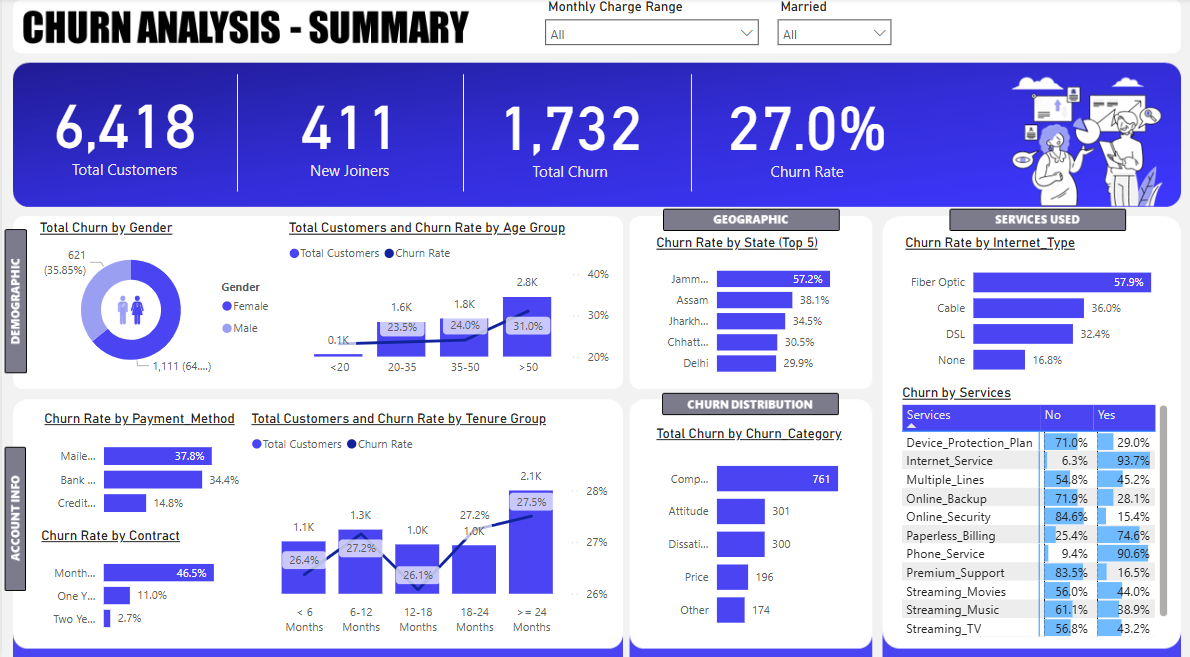

What the dashboard file says about the page in this screenshot:
{"tool":"powerbi","page":{"name":"Summary","canvas":[1280,720],"ordinal":0},"visuals":[{"type":"image","box":[92.6,316.8,93.7,50.5],"z":0},{"type":"donutChart","fields":{"Category":["prod_Churn.Gender"],"Y":["tbl_Measures.Total Churn"]},"box":[35.8,245.7,266.7,176.5],"z":1000},{"type":"card","fields":{"Values":["tbl_Measures.Total Customers"]},"box":[21,75.3,221,139.5],"z":2000},{"type":"card","fields":{"Values":["tbl_Measures.New Joiners"]},"box":[263.5,76.9,221.2,138.5],"z":3000},{"type":"card","fields":{"Values":["tbl_Measures.Total Churn"]},"box":[500,77.8,221,139.5],"z":4000},{"type":"card","fields":{"Values":["tbl_Measures.Churn Rate"]},"box":[755.6,77.8,221,139.5],"z":5000},{"type":"lineStackedColumnComboChart","fields":{"Category":["mapping_AgeGrp.Age Group"],"Y":["tbl_Measures.Total Customers"],"Y2":["tbl_Measures.Churn Rate"]},"box":[302.5,245.7,354.3,176.5],"z":6000},{"type":"clusteredBarChart","fields":{"Category":["prod_Churn.Payment_Method"],"Y":["tbl_Measures.Churn Rate"]},"box":[40.9,450,222.7,125],"z":7000},{"type":"clusteredBarChart","fields":{"Category":["prod_Churn.Contract"],"Y":["tbl_Measures.Churn Rate"]},"box":[36.4,575,234.1,122.7],"z":8000},{"type":"lineStackedColumnComboChart","fields":{"Category":["mapping_TenureGrp.Tenure Group"],"Y":["tbl_Measures.Total Customers"],"Y2":["tbl_Measures.Churn Rate"]},"box":[263.6,450,393.2,247.7],"z":9000},{"type":"clusteredBarChart","title":"Churn Rate by State (Top 5)","fields":{"Category":["prod_Churn.State"],"Y":["tbl_Measures.Churn Rate"]},"box":[697.7,261.4,229.5,161.4],"z":10000},{"type":"clusteredBarChart","fields":{"Category":["prod_Churn.Churn_Category"],"Y":["tbl_Measures.Total Churn"]},"box":[697.7,465.9,229.5,231.8],"z":11000},{"type":"clusteredBarChart","fields":{"Category":["prod_Churn.Internet_Type"],"Y":["tbl_Measures.Churn Rate"]},"box":[965.9,261.4,309.1,161.4],"z":12000},{"type":"pivotTable","title":"Churn by Services","fields":{"Rows":["prod_Services.Services"],"Columns":["prod_Services.Status"],"Values":["Sum(prod_Services.Churn_Status)"]},"box":[963.6,422.7,295.5,275],"z":13000},{"type":"slicer","fields":{"Values":["prod_Services.Monthly_Charge_Status"]},"box":[573.7,1.8,249.1,75.4],"z":14000},{"type":"slicer","fields":{"Values":["prod_Services.Married"]},"box":[824.6,1.8,142.1,75.4],"z":15000}]}

Visuals, with their boxes in screenshot pixels (x1, y1, x2, y2), scaled from the page's 1280x720 canvas onto the 1190x657 screenshot:
image: 86, 289, 173, 335
donutChart - prod_Churn.Gender x tbl_Measures.Total Churn: 33, 224, 281, 385
card - tbl_Measures.Total Customers: 20, 69, 225, 196
card - tbl_Measures.New Joiners: 245, 70, 451, 197
card - tbl_Measures.Total Churn: 465, 71, 670, 198
card - tbl_Measures.Churn Rate: 702, 71, 908, 198
lineStackedColumnComboChart - mapping_AgeGrp.Age Group x tbl_Measures.Total Customers: 281, 224, 611, 385
clusteredBarChart - prod_Churn.Payment_Method x tbl_Measures.Churn Rate: 38, 411, 245, 525
clusteredBarChart - prod_Churn.Contract x tbl_Measures.Churn Rate: 34, 525, 251, 637
lineStackedColumnComboChart - mapping_TenureGrp.Tenure Group x tbl_Measures.Total Customers: 245, 411, 611, 637
"Churn Rate by State (Top 5)" clusteredBarChart: 649, 239, 862, 386
clusteredBarChart - prod_Churn.Churn_Category x tbl_Measures.Total Churn: 649, 425, 862, 637
clusteredBarChart - prod_Churn.Internet_Type x tbl_Measures.Churn Rate: 898, 239, 1185, 386
"Churn by Services" pivotTable: 896, 386, 1171, 637
slicer - prod_Services.Monthly_Charge_Status: 533, 2, 765, 70
slicer - prod_Services.Married: 767, 2, 899, 70
